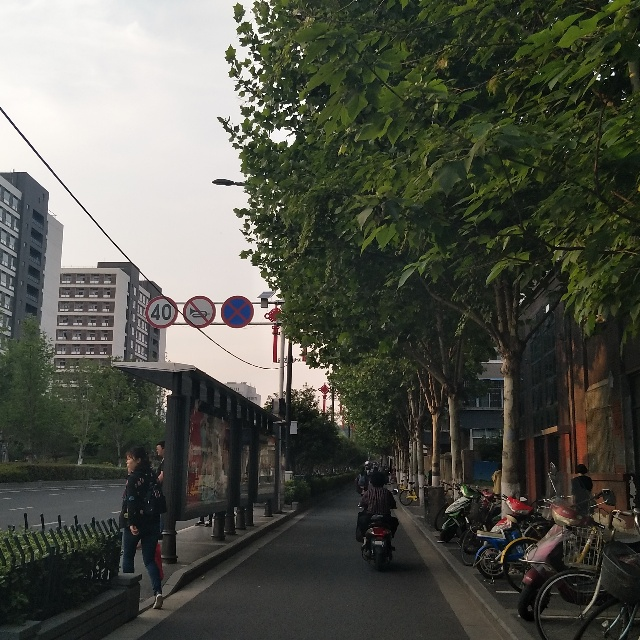nohonk: (181, 293, 217, 333)
stop: (218, 295, 258, 334)
